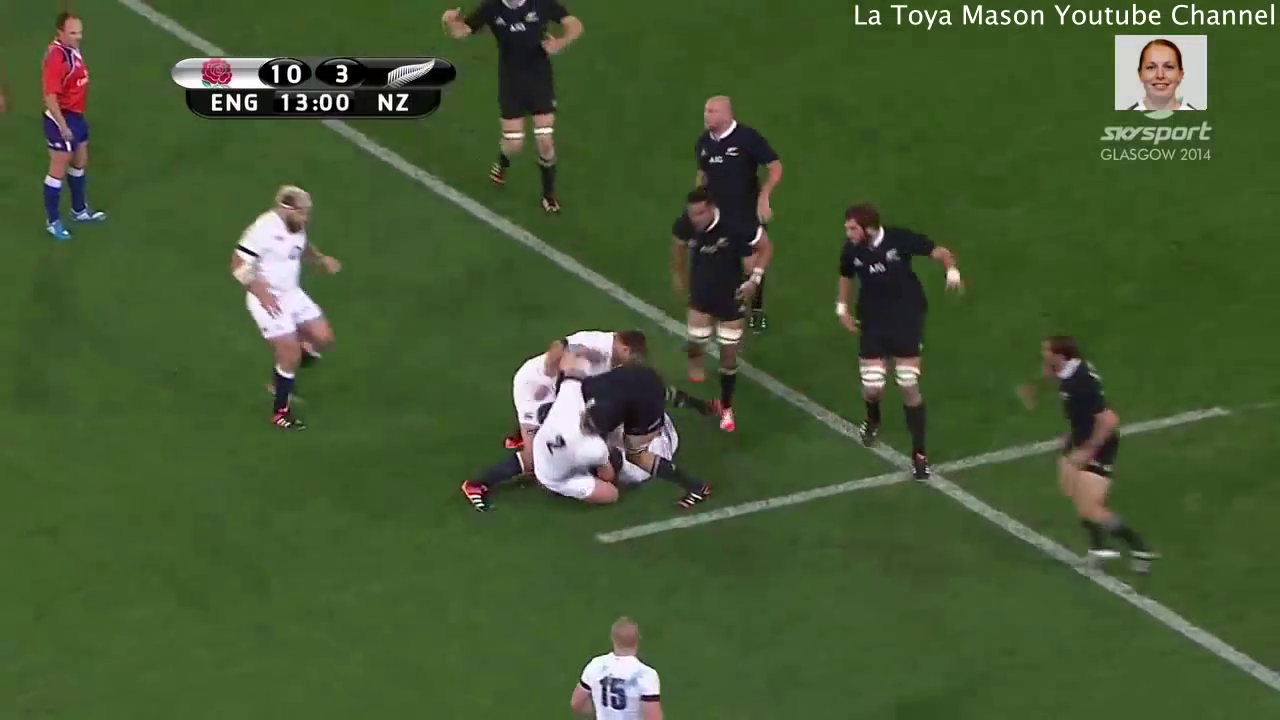player: (815, 201, 964, 488), (1031, 331, 1172, 596), (443, 1, 593, 215), (227, 183, 347, 436), (668, 193, 785, 444), (586, 363, 732, 511), (26, 1, 108, 244), (531, 378, 618, 508), (680, 95, 783, 200), (566, 611, 665, 720), (506, 320, 653, 392)
